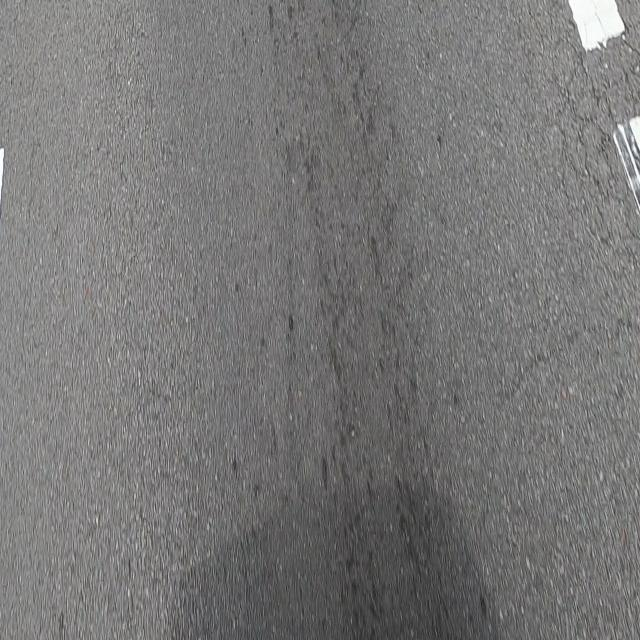Retak-Buaya: (555, 30, 639, 244)
